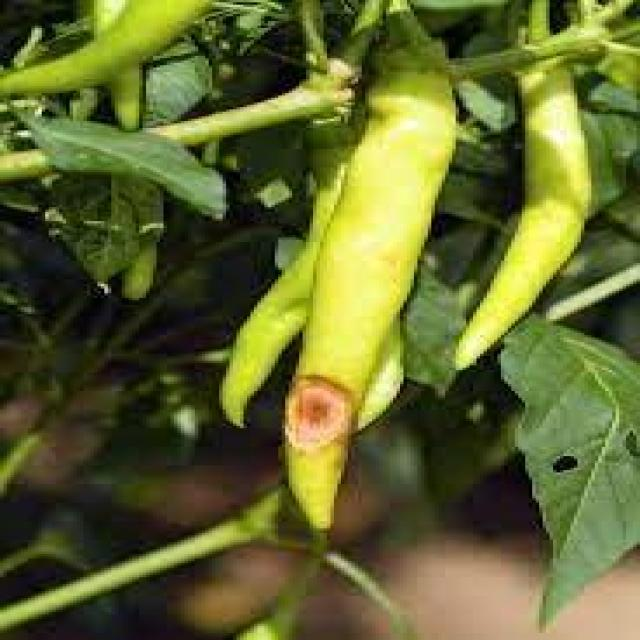Moko: (279, 362, 411, 482)
